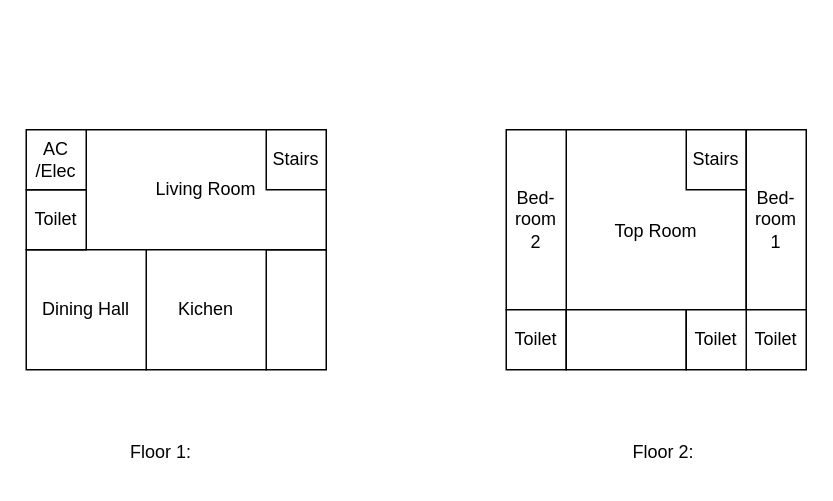
Image size: 833x501. Some labels were removed from this diagram. The shapes that lost their labels are listed below. From the top down, each one's centre as x and y in pixels, then its label:
(295,309): Ga r- adge
(625,339): Bed-room Guest
